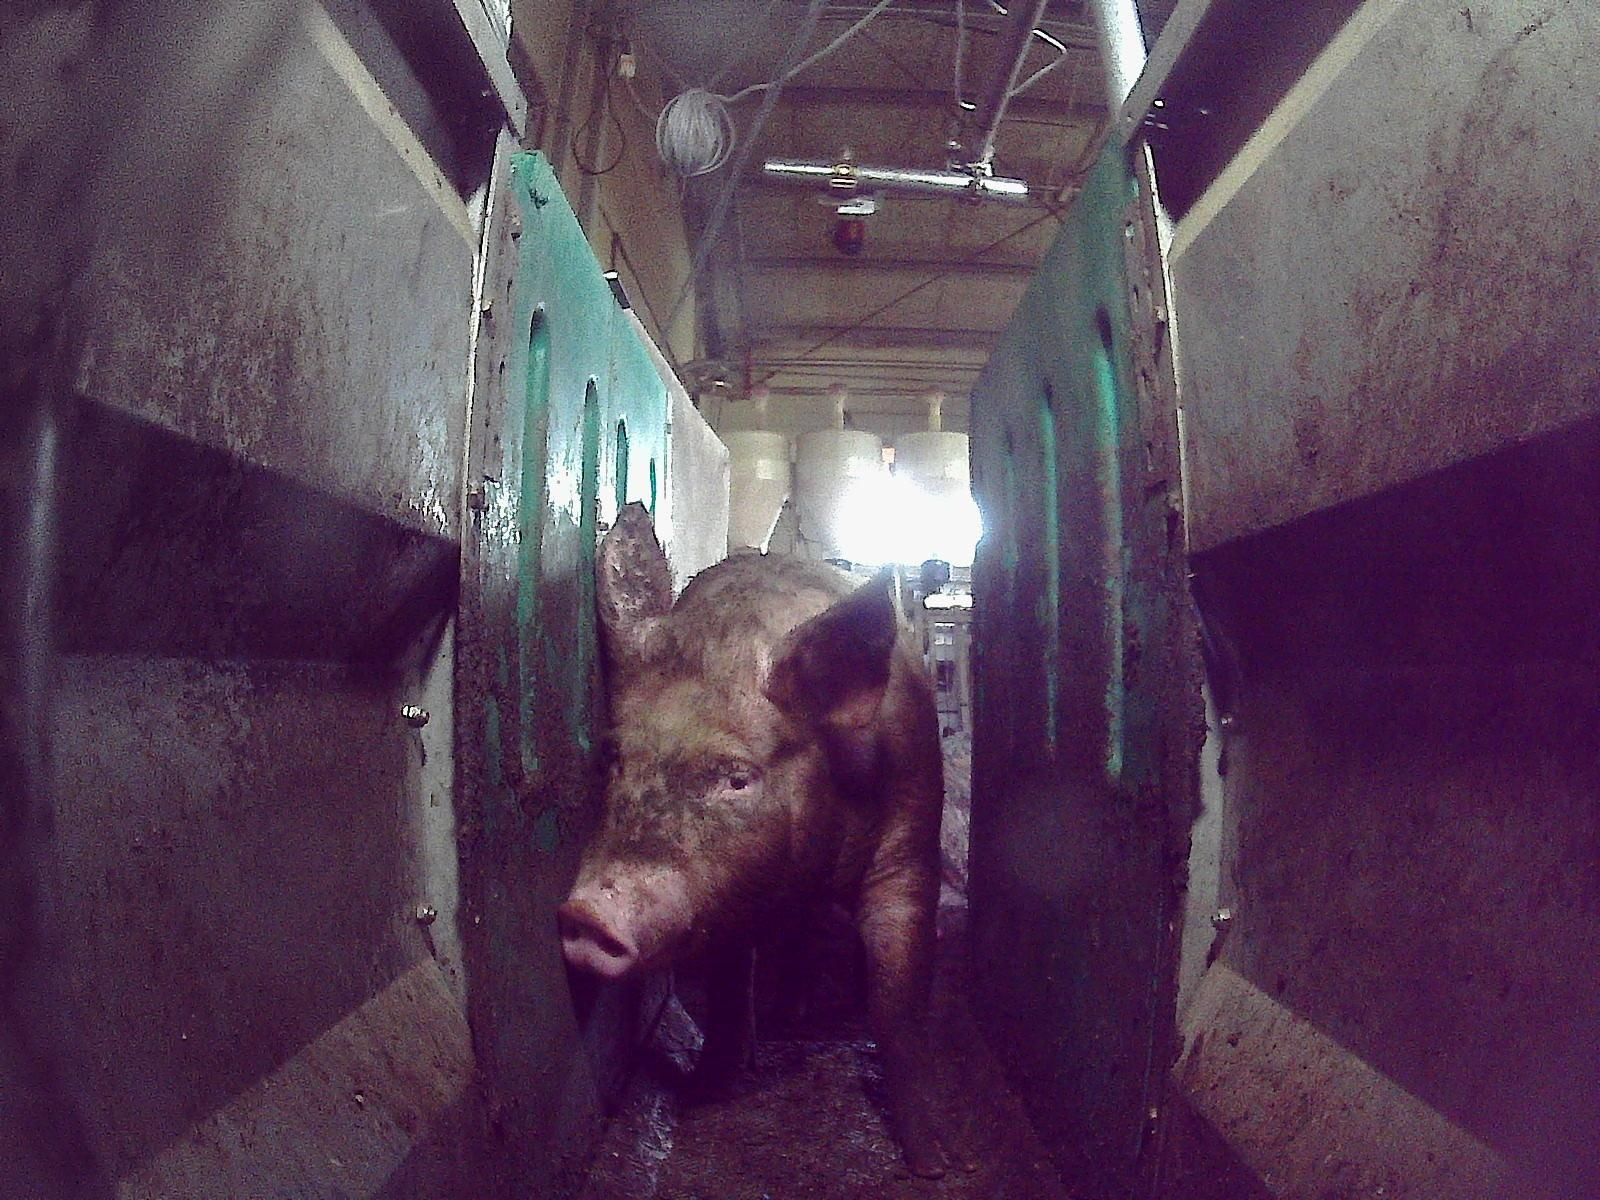Face: (557, 649, 817, 978)
